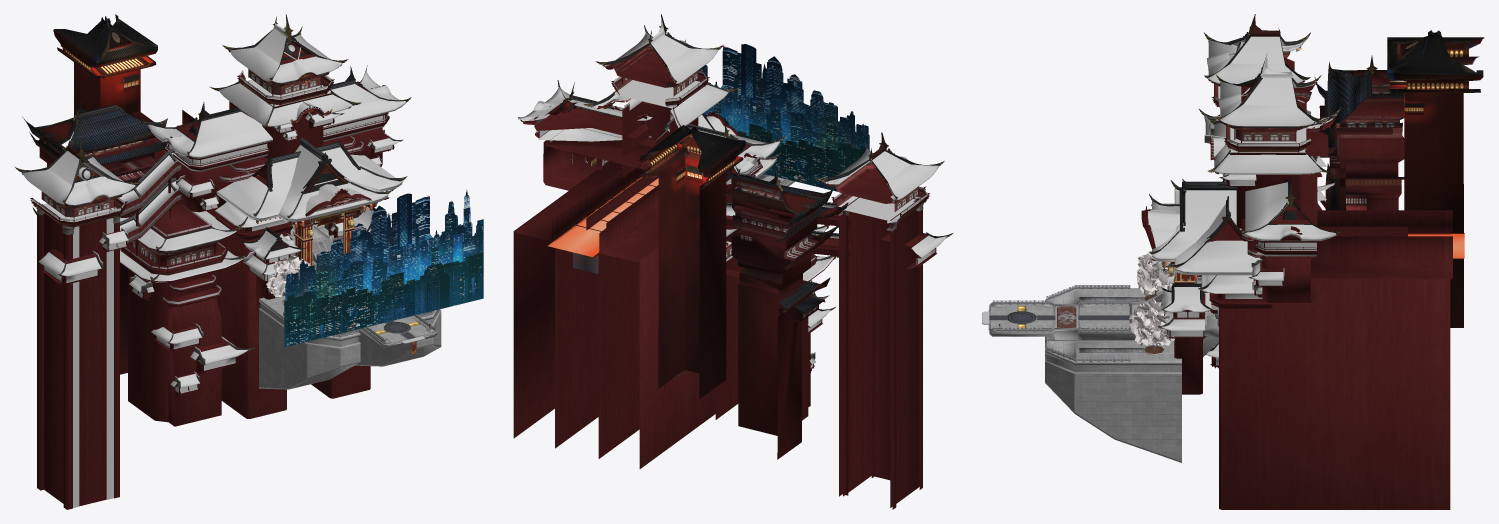
File: Stage.fbx
The picture shows the model from 3 angles, left to right: view 1: azimuth 30°, elevation 25°; view 2: azimuth 150°, elevation 25°; view 3: azimuth 270°, elevation 25°; orthographic projection. The views are drawn at different scales.
Visible parts, largest first — view 1: Tower_Left, Backdrop, Tower_LftSM, Roof, MainTower, OutsideFloor, Main_Left, Backdrop_Tower_Left_01, LeftWing, Backdrop_Tower_Left_02, RightWing, LeftArchTower (+9 smaller); view 2: Tower_Left, Backdrop_Tower_Left_01, Main_Right, Backdrop_Tower_Left_02, Main_Left, Backdrop, MainTower, RightWing, Tower_LftSM, Inside_Ceiling, LeftWing, Roof (+2 smaller); view 3: Main_Right, OutsideFloor, Backdrop_Tower_Left_02, MainTower, Backdrop_Tower_Left_01, Roof, RightWing, Tower_Left, RightArchTower, Main_Left, RightTree, Inside_Ceiling (+4 smaller).
Part boxes in pixels (box(x1,y1,x2,y2)): Tower_Left: box(14, 138, 141, 509); Backdrop: box(284, 189, 483, 347); Tower_LftSM: box(120, 204, 245, 426); Roof: box(216, 137, 407, 230); MainTower: box(209, 14, 361, 159); OutsideFloor: box(259, 296, 441, 389); Main_Left: box(147, 110, 292, 418); Backdrop_Tower_Left_01: box(22, 98, 169, 374); LeftWing: box(143, 102, 272, 212); Backdrop_Tower_Left_02: box(53, 14, 157, 131); RightWing: box(323, 65, 411, 166); LeftArchTower: box(241, 226, 304, 325); Tower_Left: box(815, 132, 944, 509); Backdrop_Tower_Left_01: box(726, 168, 848, 459); Main_Right: box(513, 159, 645, 448); Backdrop_Tower_Left_02: box(639, 125, 745, 399); Main_Left: box(598, 190, 715, 468); Backdrop: box(685, 39, 869, 191); MainTower: box(583, 14, 738, 177); RightWing: box(518, 80, 655, 190); Tower_LftSM: box(715, 225, 835, 420); Inside_Ceiling: box(547, 176, 658, 257); LeftWing: box(638, 118, 785, 229); Roof: box(591, 111, 780, 195); Main_Right: box(1198, 236, 1452, 509); OutsideFloor: box(982, 288, 1218, 462); Backdrop_Tower_Left_02: box(1387, 30, 1484, 327); MainTower: box(1207, 55, 1329, 228); Backdrop_Tower_Left_01: box(1314, 55, 1404, 210); Roof: box(1141, 178, 1260, 280); RightWing: box(1240, 176, 1340, 302); Tower_Left: box(1204, 14, 1310, 107); RightArchTower: box(1157, 283, 1212, 394); Main_Left: box(1317, 210, 1452, 234); RightTree: box(1129, 298, 1174, 355); Inside_Ceiling: box(1318, 226, 1464, 258).
Bounding box in the file's own units: 8585 × 9342 × 8941.
